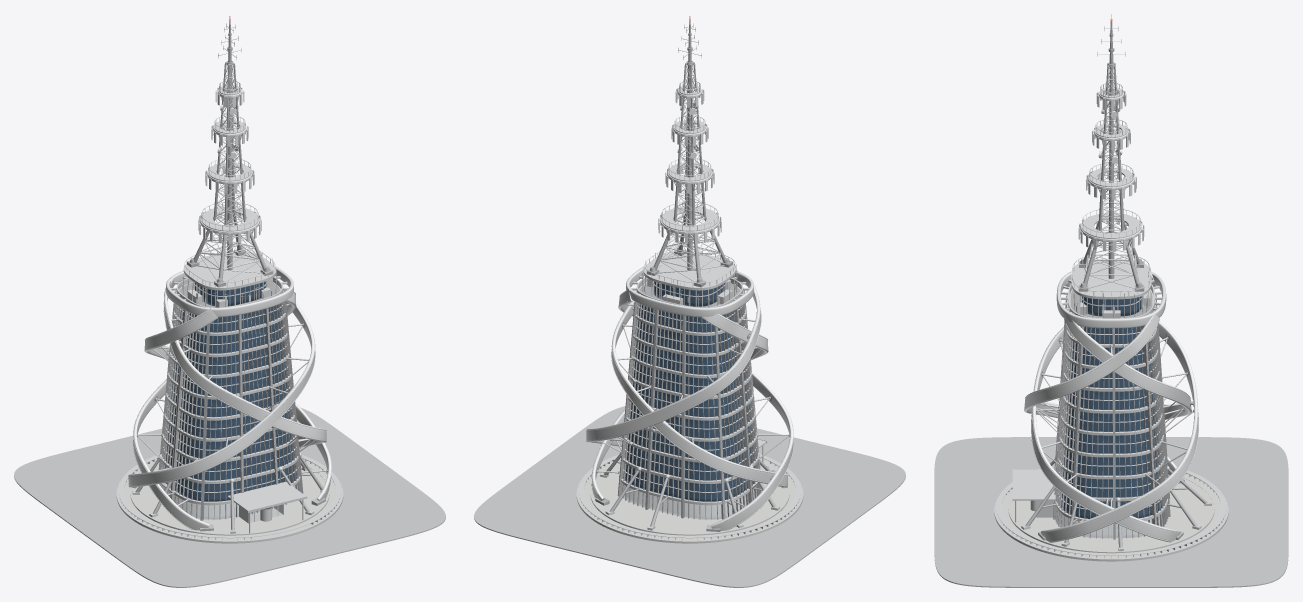
File: future_tech_hq.glb
3 renders of one model, left to right at view 1: azimuth 30°, elevation 25°; view 2: azimuth 150°, elevation 25°; view 3: azimuth 270°, elevation 25°, orthographic. The views are drawn at different scales.
Visible parts, largest first — view 1: Base_Site_Paving, Main_Glass_Curtain_Wall, Main_Vertical_Mullions, Base_Podium, Main_Floor_Slab_Edges, Main_Structural_Columns, Exo_Ribbon_A1, Roof_Drum_Frame, Base_Metal_Trim, Exo_Ribbon_B1, Spire_Bracing, Spire_Ring_Platforms (+14 smaller); view 2: Base_Site_Paving, Main_Glass_Curtain_Wall, Main_Vertical_Mullions, Base_Podium, Main_Structural_Columns, Main_Floor_Slab_Edges, Roof_Drum_Frame, Exo_Ribbon_A2, Base_Metal_Trim, Exo_Ribbon_B2, Spire_Bracing, Spire_Ring_Platforms (+13 smaller); view 3: Base_Site_Paving, Main_Glass_Curtain_Wall, Base_Podium, Main_Vertical_Mullions, Exo_Ribbon_A2, Main_Structural_Columns, Roof_Drum_Frame, Main_Floor_Slab_Edges, Base_Metal_Trim, Exo_Ribbon_B1, Exo_Ribbon_A1, Spire_Ring_Platforms (+14 smaller).
Boxes of the visible parts, x1,y1,x2,y2 form: Base_Site_Paving: (14, 408, 445, 587); Main_Glass_Curtain_Wall: (165, 304, 296, 501); Main_Vertical_Mullions: (159, 293, 299, 519); Base_Podium: (117, 458, 342, 541); Main_Floor_Slab_Edges: (161, 282, 300, 505); Main_Structural_Columns: (158, 291, 303, 520); Exo_Ribbon_A1: (128, 285, 315, 488); Roof_Drum_Frame: (183, 246, 276, 307); Base_Metal_Trim: (116, 454, 343, 543); Exo_Ribbon_B1: (164, 278, 326, 447); Spire_Bracing: (195, 62, 262, 281); Spire_Ring_Platforms: (199, 80, 260, 241); Base_Site_Paving: (474, 406, 905, 587); Main_Glass_Curtain_Wall: (623, 304, 754, 501); Main_Vertical_Mullions: (622, 293, 761, 519); Base_Podium: (577, 457, 802, 541); Main_Structural_Columns: (617, 290, 760, 519); Main_Floor_Slab_Edges: (619, 282, 758, 505); Roof_Drum_Frame: (643, 246, 736, 306); Exo_Ribbon_A2: (586, 278, 761, 446); Base_Metal_Trim: (576, 454, 803, 543); Exo_Ribbon_B2: (611, 301, 787, 488); Spire_Bracing: (657, 62, 724, 281); Spire_Ring_Platforms: (659, 80, 720, 240); Base_Site_Paving: (934, 437, 1288, 587); Main_Glass_Curtain_Wall: (1061, 326, 1161, 518); Base_Podium: (995, 474, 1227, 558); Main_Vertical_Mullions: (1055, 326, 1168, 538); Exo_Ribbon_A2: (1041, 272, 1198, 542); Main_Structural_Columns: (1053, 295, 1170, 539); Roof_Drum_Frame: (1071, 255, 1151, 318); Main_Floor_Slab_Edges: (1055, 289, 1168, 521); Base_Metal_Trim: (994, 468, 1228, 561); Exo_Ribbon_B1: (1031, 272, 1180, 542); Exo_Ribbon_A1: (1024, 312, 1176, 475); Spire_Ring_Platforms: (1080, 83, 1142, 246).
Bounding box in the file's own units: 76 × 118 × 76.
